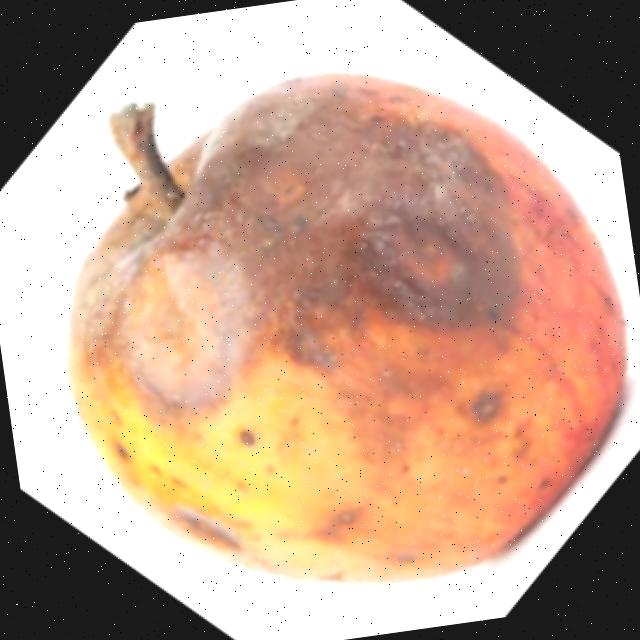Rotten: (19, 21, 640, 628)
